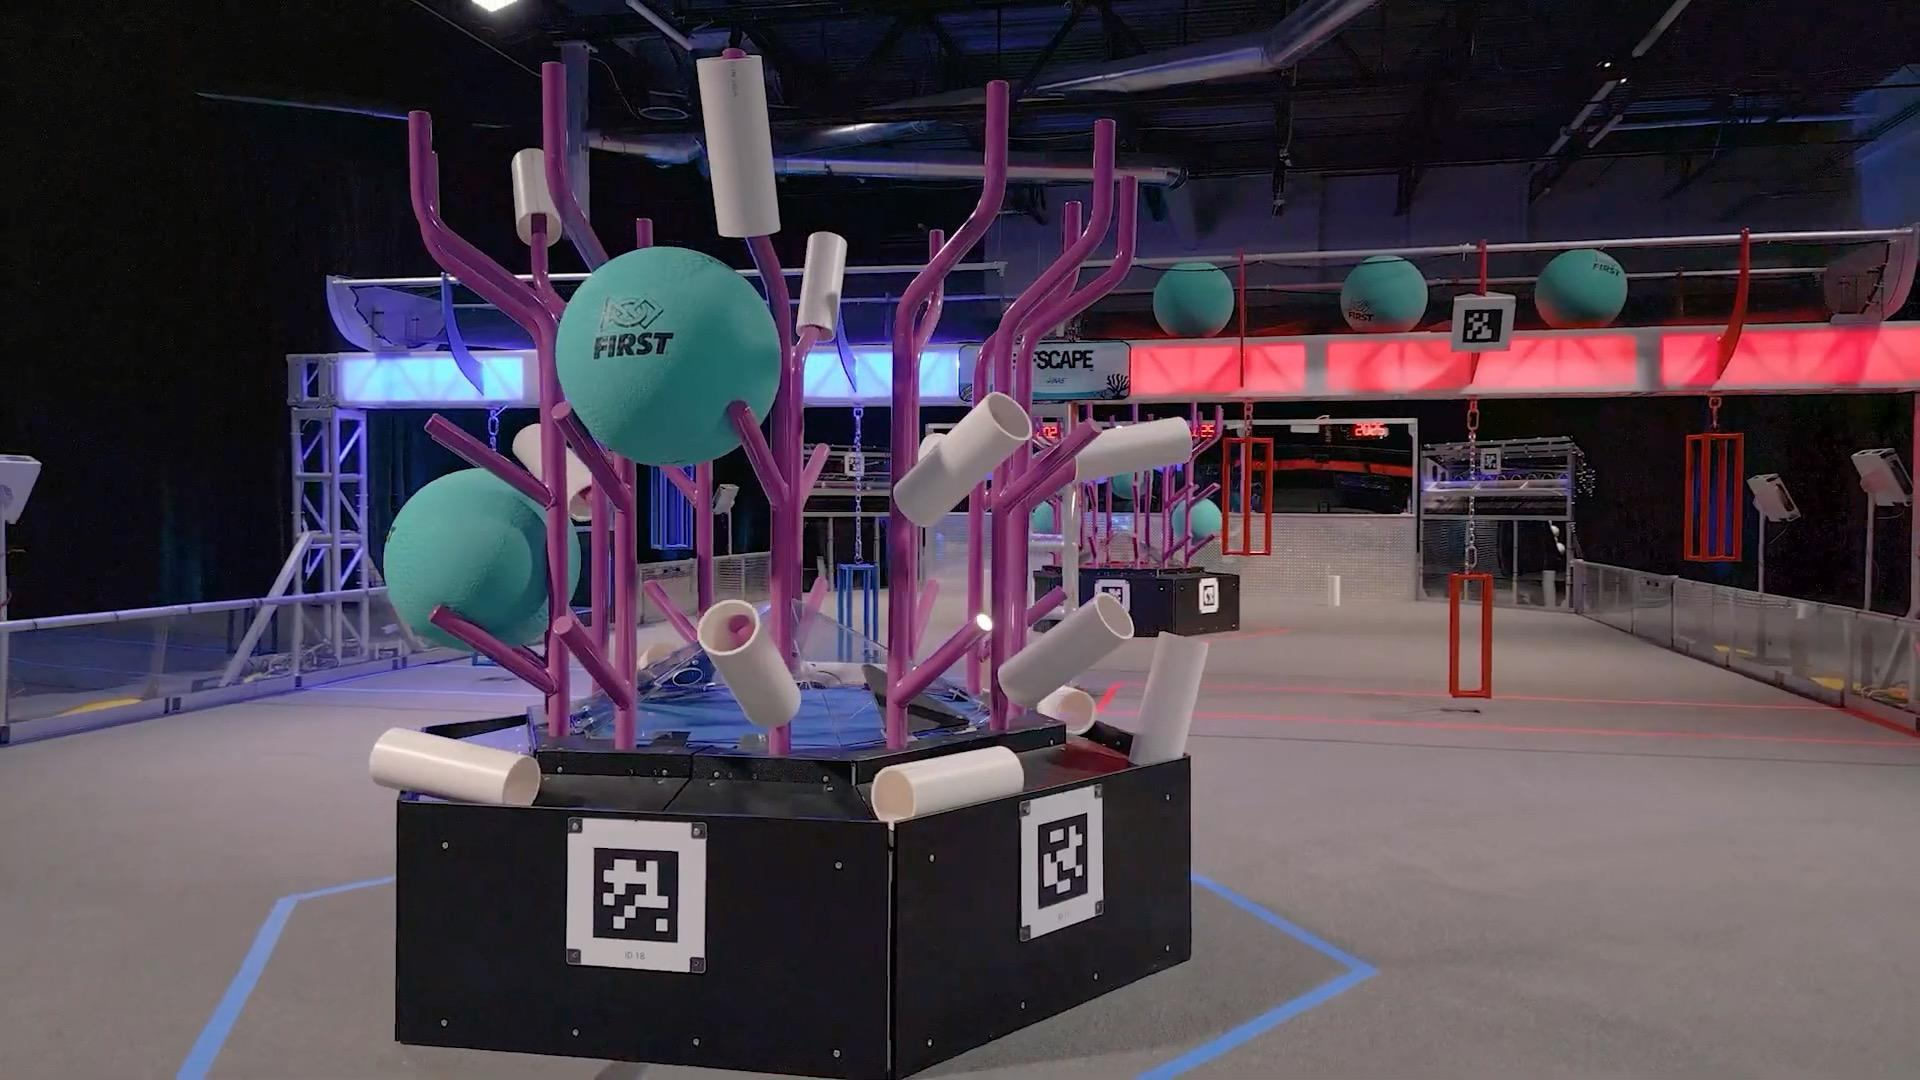ALGAE: (553, 243, 781, 465), (381, 465, 582, 653), (1534, 247, 1627, 328), (1338, 255, 1428, 334), (1151, 260, 1234, 338), (1168, 496, 1222, 538)
CORAL: (891, 390, 1033, 527), (996, 589, 1134, 708), (695, 47, 781, 237), (368, 724, 541, 807), (695, 597, 800, 729), (870, 742, 1025, 822), (1127, 629, 1208, 764), (1072, 414, 1192, 480), (794, 229, 847, 342), (512, 148, 562, 247)
